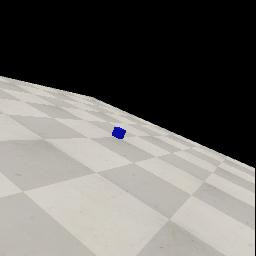box: (112, 127, 126, 139)
